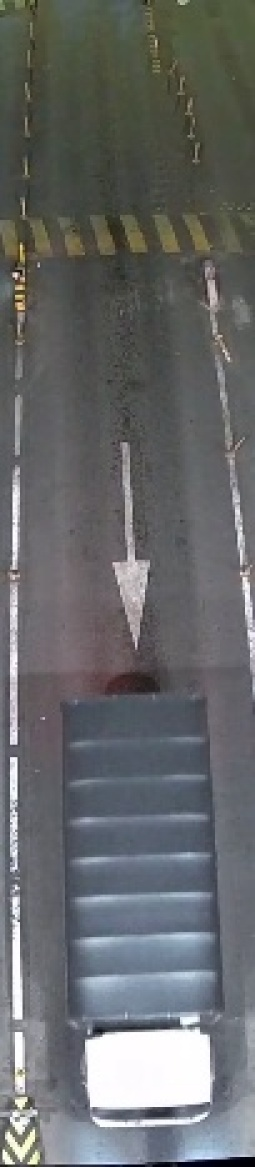truck: (51, 690, 234, 1131)
